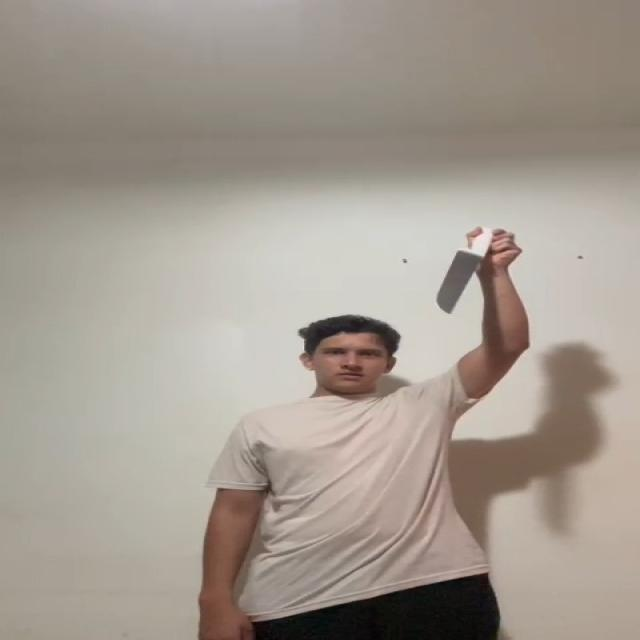knife: (431, 250, 478, 314)
